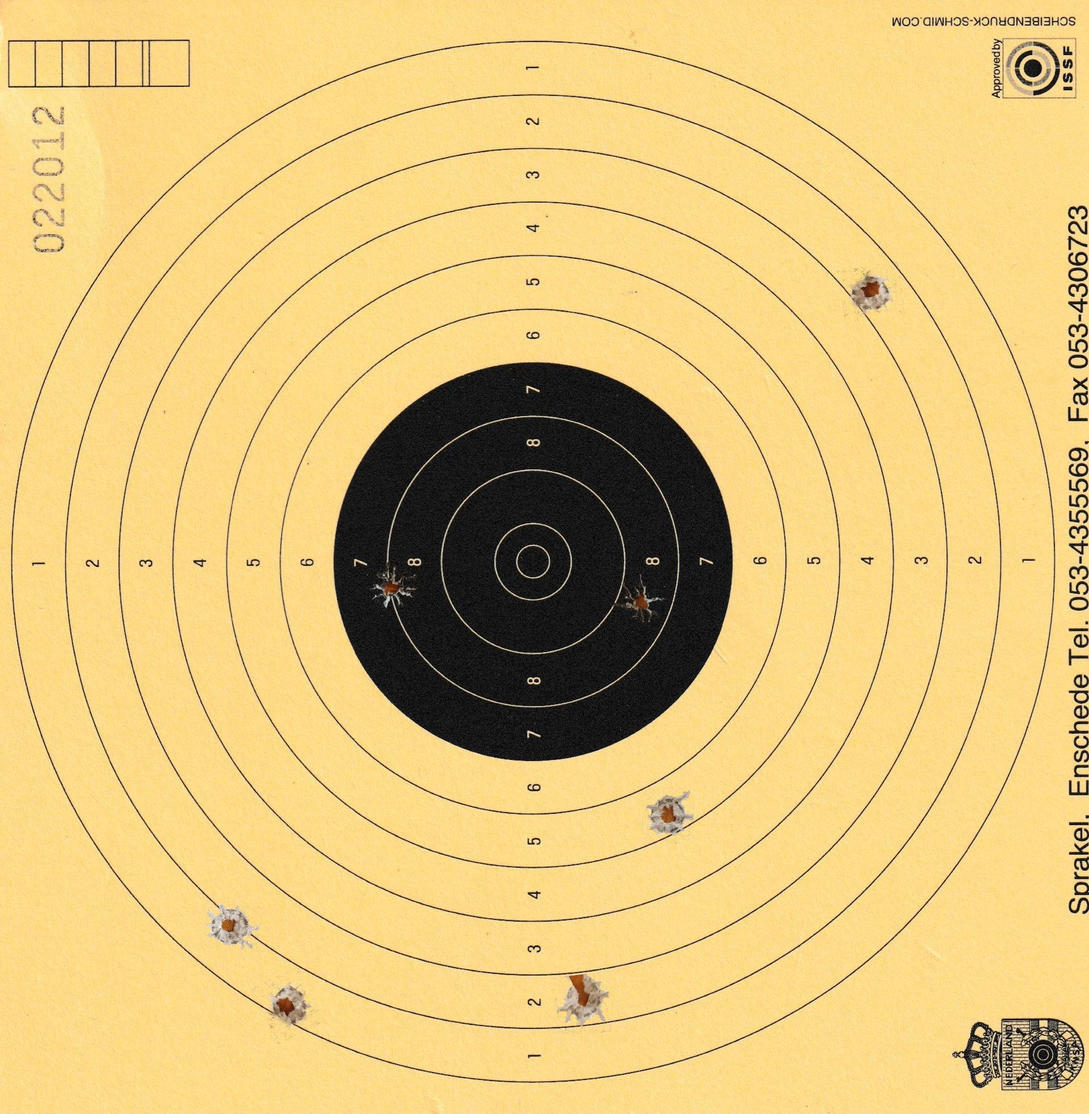hole: (609, 574, 665, 625), (557, 977, 611, 1026), (644, 789, 695, 836), (266, 982, 310, 1032), (371, 564, 417, 610), (207, 907, 255, 950), (848, 269, 892, 313)
